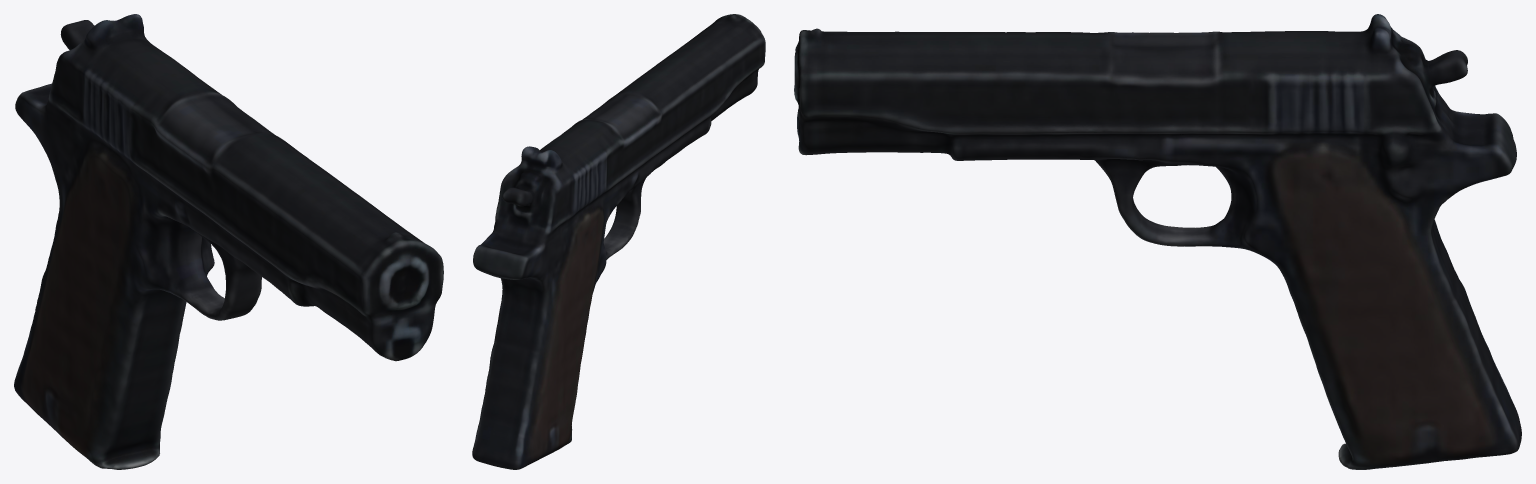
File: gun.glb
3 renders of one model, left to right at view 1: azimuth 30°, elevation 25°; view 2: azimuth 150°, elevation 25°; view 3: azimuth 270°, elevation 25°, orthographic. The views are drawn at different scales.
Parts seen in each view (by area): view 1: high_poly; view 2: high_poly; view 3: high_poly.
Part boxes in pixels (x1,y1,x2,y2): high_poly: [14, 14, 443, 469]; high_poly: [472, 14, 765, 469]; high_poly: [794, 14, 1521, 469].
Bounding box in the file's own units: 0.149 × 0.6623 × 1.
Materials: 1 (1 with a texture image).
